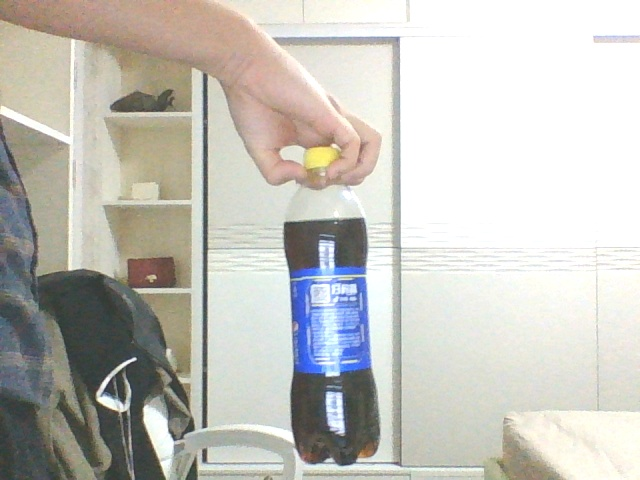Cola: (284, 146, 381, 464)
